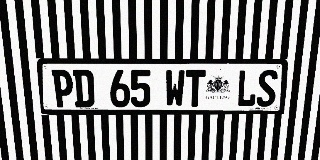5: (130, 70, 151, 107)
6: (109, 70, 130, 107)
D: (72, 70, 95, 107)
L: (236, 70, 258, 107)
P: (51, 70, 74, 107)
S: (256, 70, 278, 107)
T: (185, 70, 206, 107)
W: (165, 70, 185, 107)
